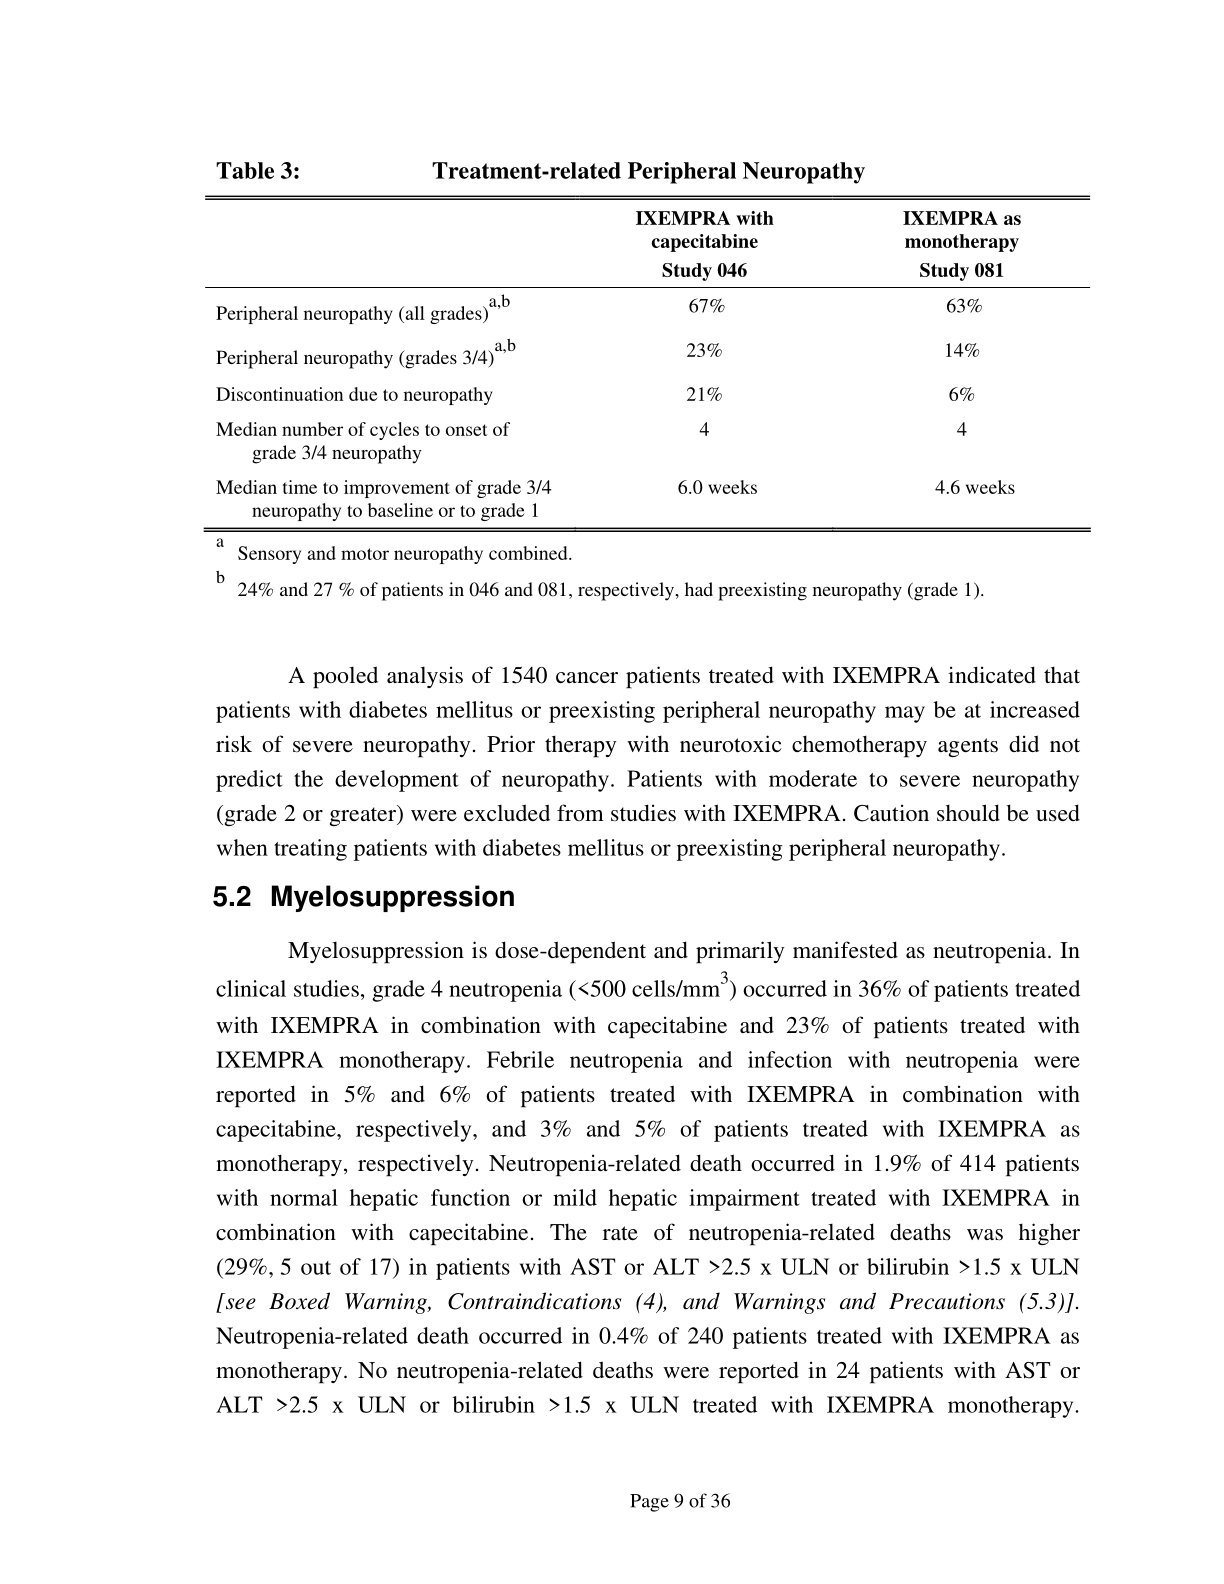partial_lined: (201, 193, 1092, 532)
